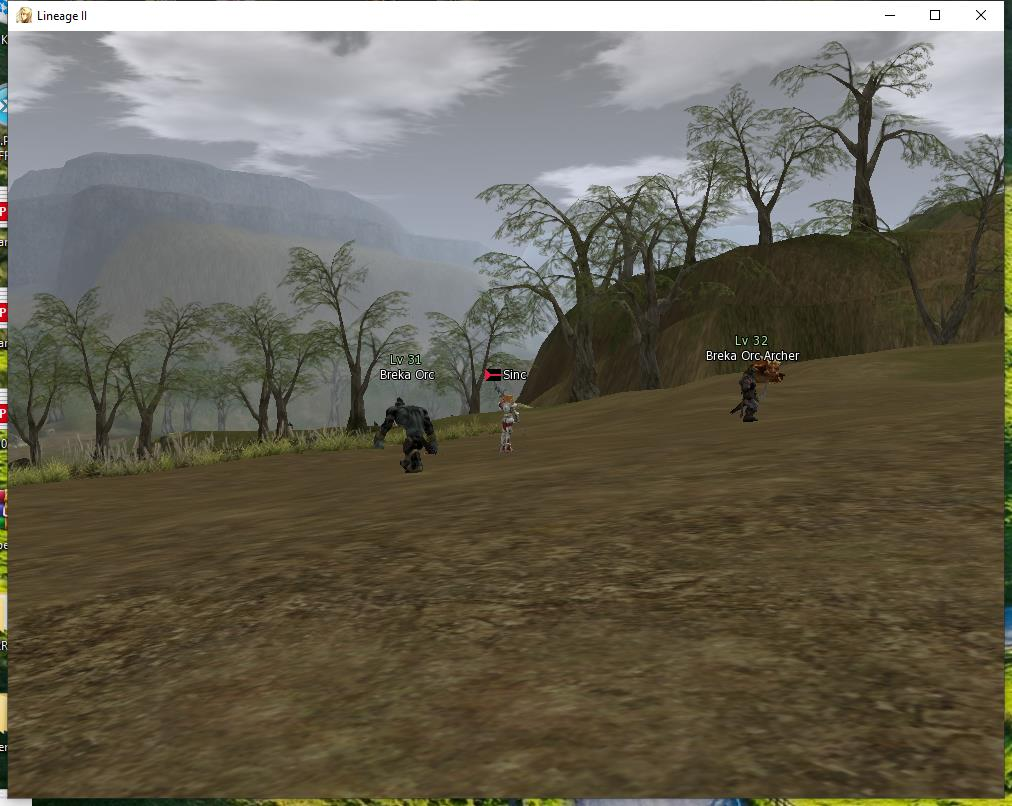monster: (351, 329, 456, 494), (703, 324, 791, 436)
